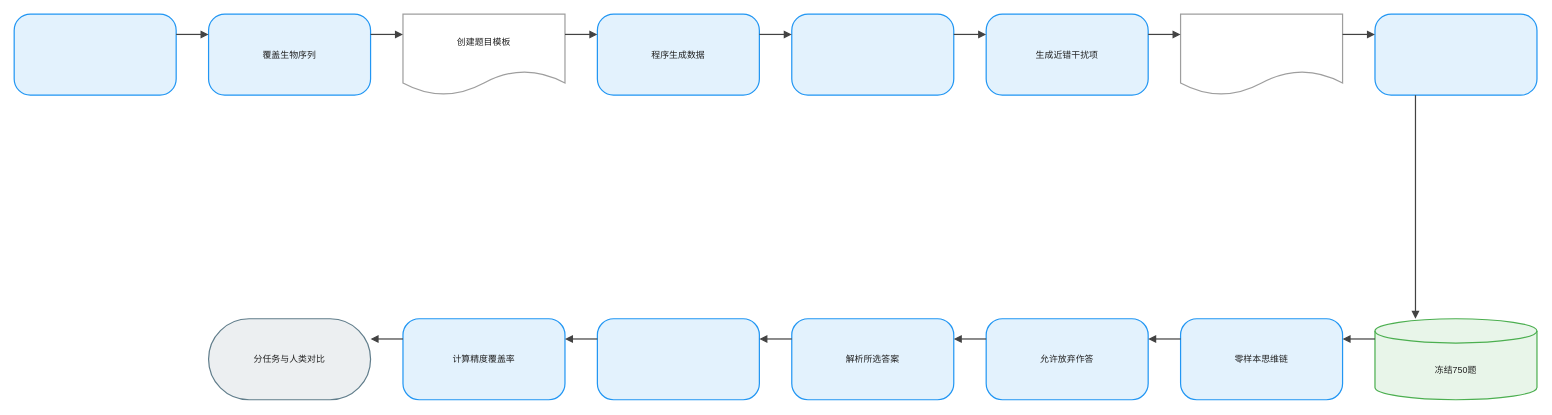
Some shapes in this 1552 by 415 pixel diagram are drawn without their labels. The shapes that lost their labels are listed below. From the top down, each one's box as (x1, y1, x2, y2) in pixels, then its label:
(13, 13, 176, 95): 定义15项任务
(791, 13, 954, 95): 计算理想答案
(1180, 13, 1343, 95): 组装选择题
(1374, 13, 1537, 95): 区分发布划分
(596, 318, 760, 400): 计算准确率
